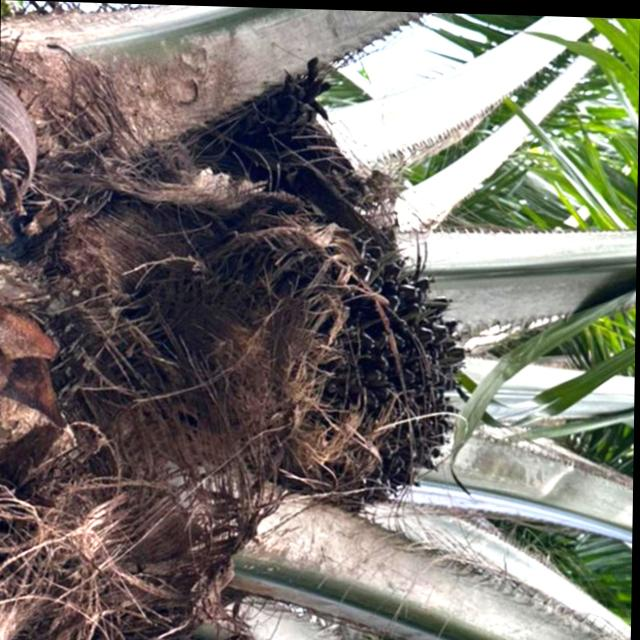almost: (157, 205, 475, 510)
